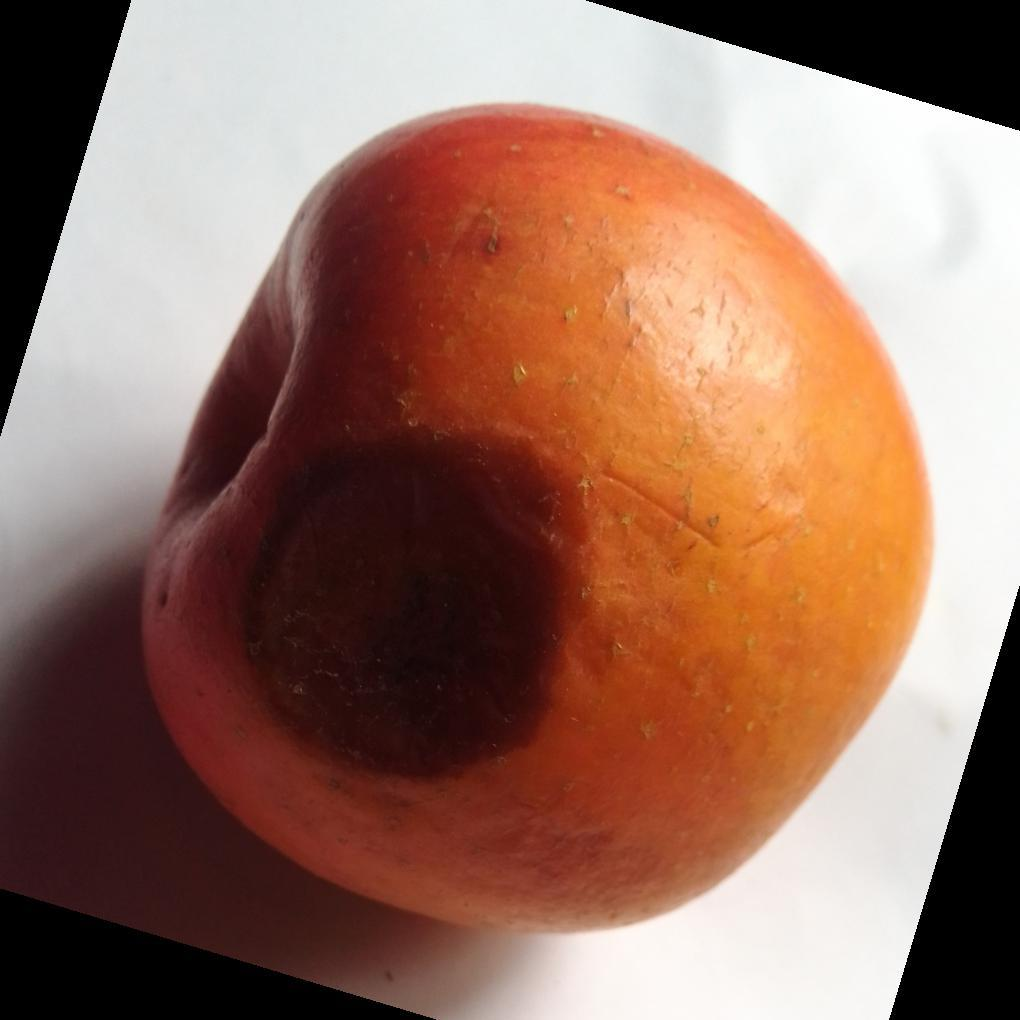FreshOrange: (138, 104, 939, 939)
